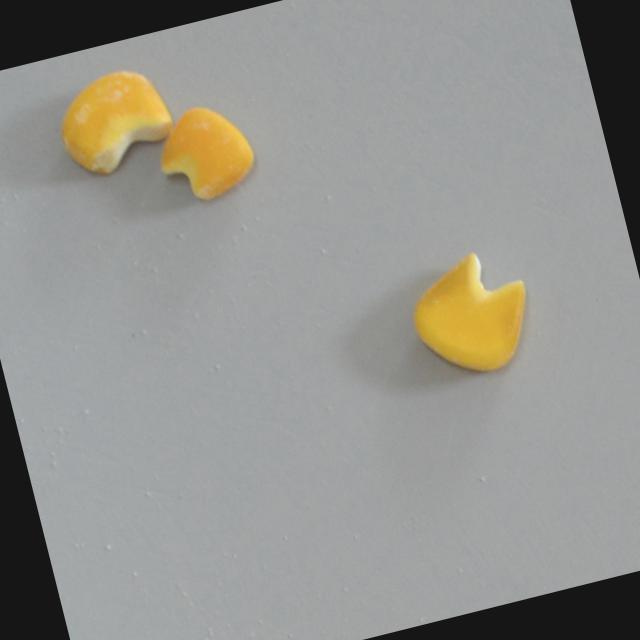no_canjicado: (396, 239, 541, 392), (146, 94, 261, 211)
pelicula: (45, 61, 180, 184)
